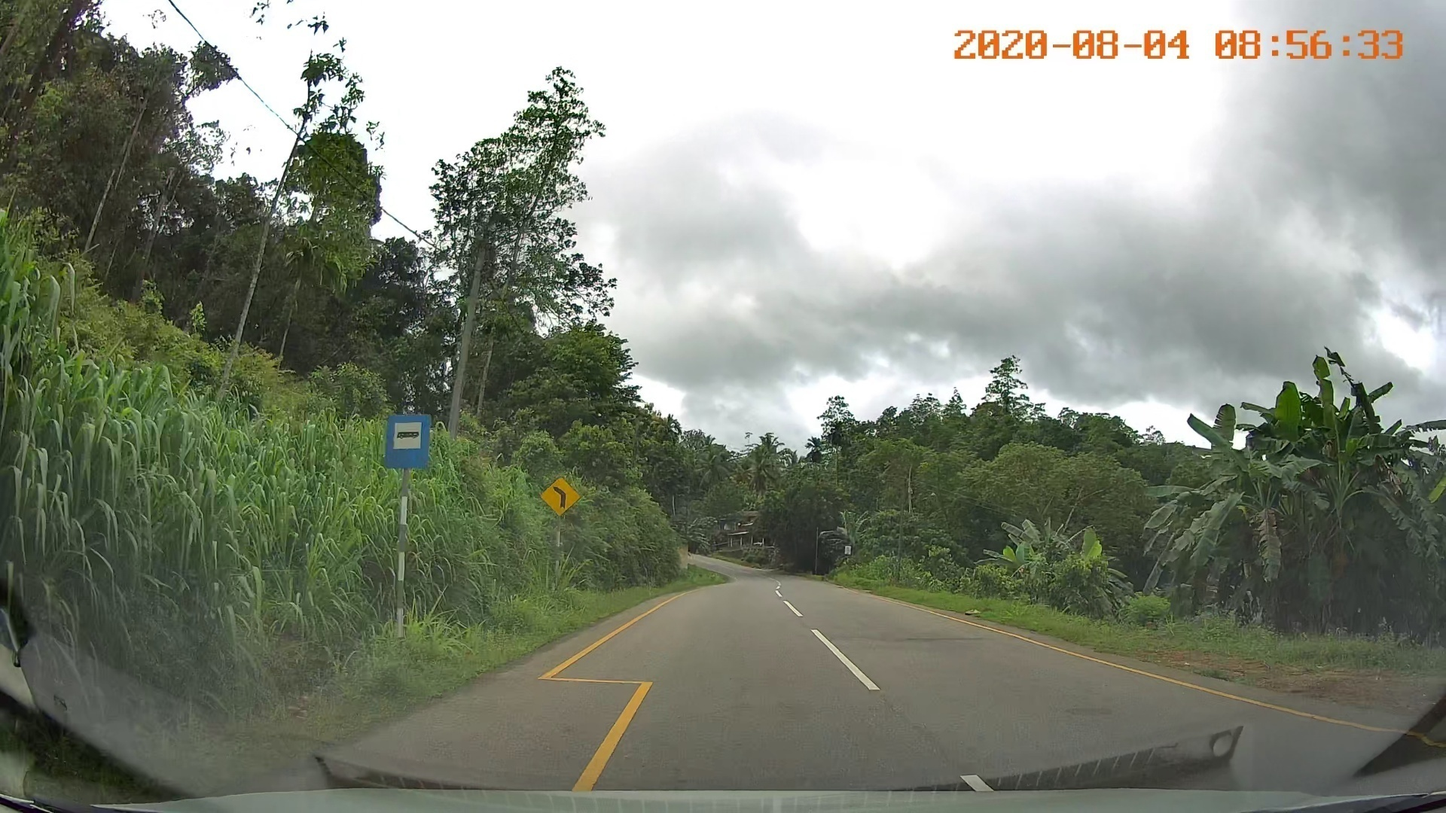DWS-01: (538, 474, 583, 517)
OSD-06: (384, 413, 431, 469)
